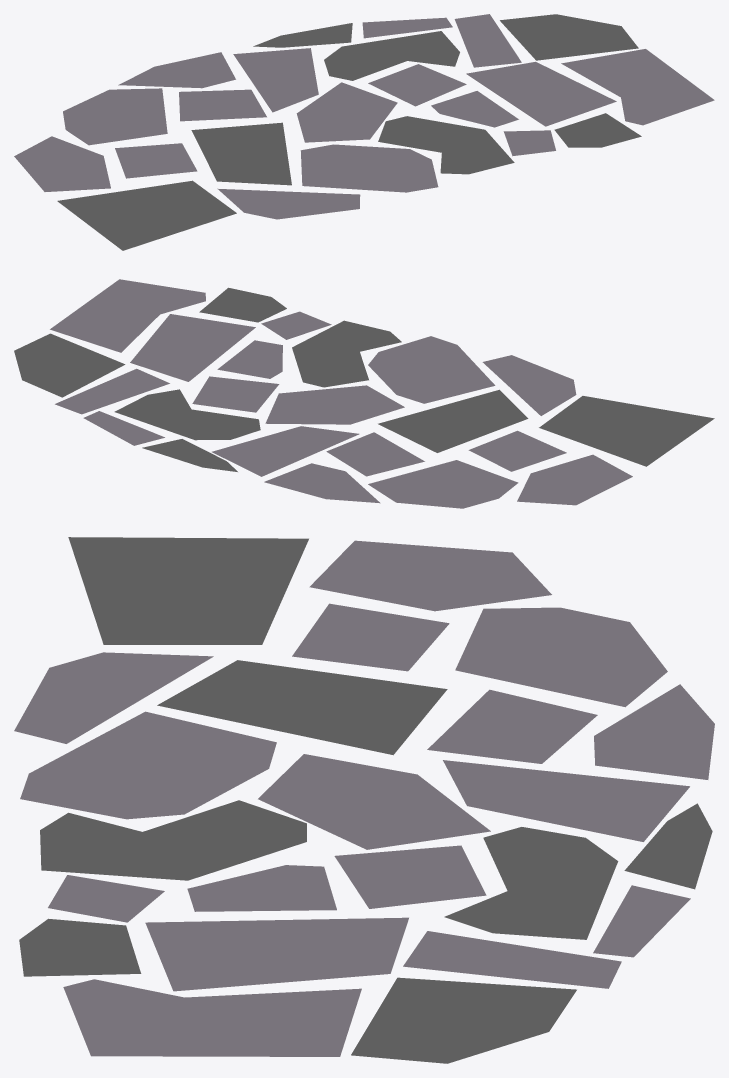
The model's file is road_end.fbx.
3 views of the same model, one above another, from view 1: azimuth 30°, elevation 25°; view 2: azimuth 150°, elevation 25°; view 3: azimuth 270°, elevation 25° (orthographic). The views are drawn at different scales.
Parts seen in each view (by area): view 1: road_short.002; view 2: road_short.002; view 3: road_short.002.
Boxes of the visible parts, x1,y1,x2,y2 form: road_short.002: (14,14,714,250); road_short.002: (14,279,714,508); road_short.002: (14,537,714,1063).
Bounding box in the file's own units: 134 × 0.2137 × 75.44.
